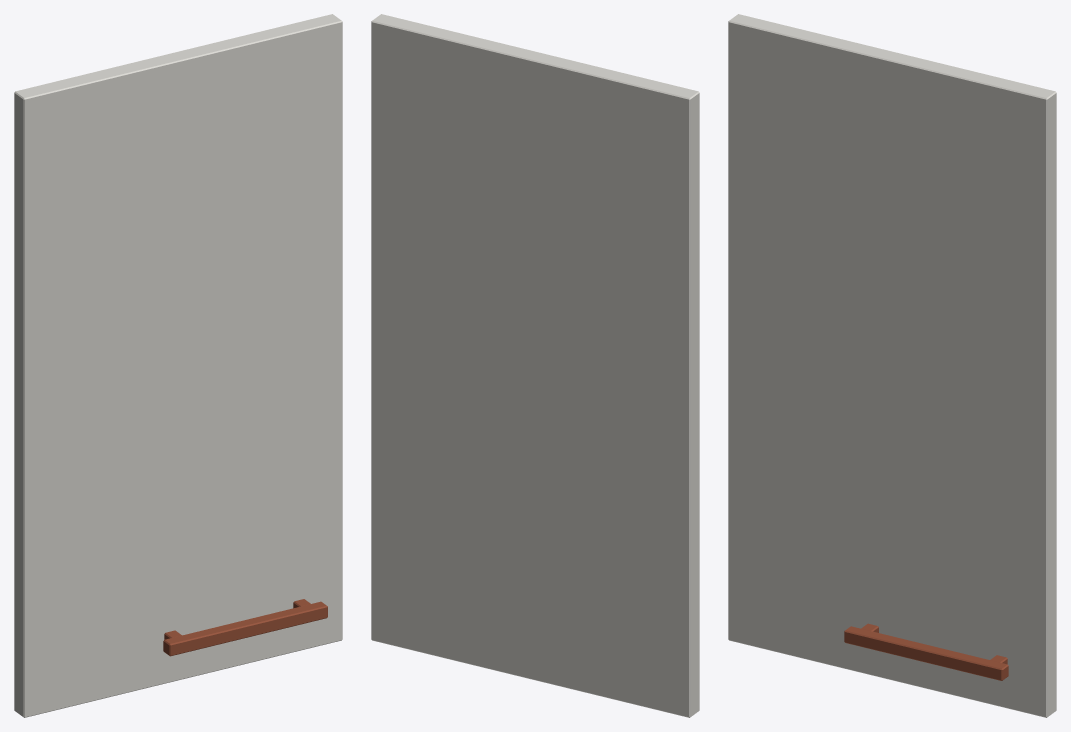
File: l_kitchen_appliances_w1_left_door.glb
3 views of the same model, side by side, from view 1: azimuth 30°, elevation 25°; view 2: azimuth 150°, elevation 25°; view 3: azimuth 330°, elevation 25° (orthographic).
Visible parts, largest first — view 1: l_kitchen_appliances_w1_left_door; view 2: l_kitchen_appliances_w1_left_door; view 3: l_kitchen_appliances_w1_left_door.
Part boxes in pixels (left/top/right/bottom): l_kitchen_appliances_w1_left_door: left=14, top=14, right=342, bottom=717; l_kitchen_appliances_w1_left_door: left=371, top=14, right=699, bottom=717; l_kitchen_appliances_w1_left_door: left=728, top=14, right=1056, bottom=717.
Bounding box in the file's own units: 0.322 × 0.597 × 0.044.
